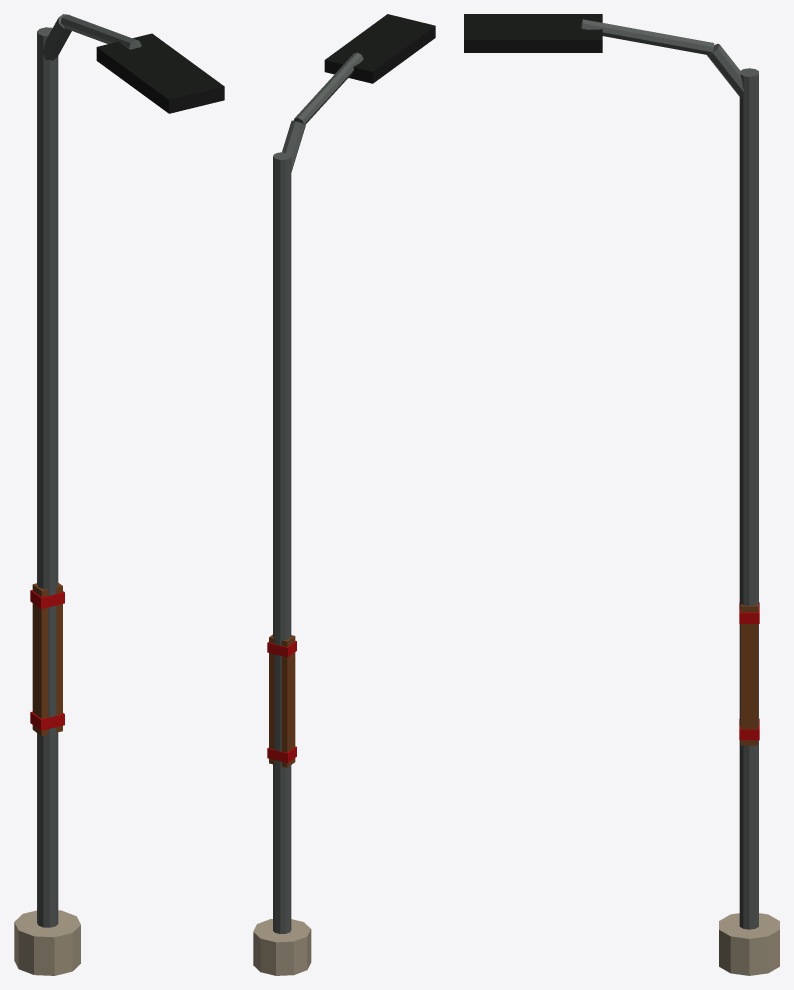
Rendered from LampuPJU.obj.
3 renders of one model, left to right at view 1: azimuth 30°, elevation 25°; view 2: azimuth 150°, elevation 25°; view 3: azimuth 270°, elevation 25°, orthographic. The views are drawn at different scales.
Parts seen in each view (by area): view 1: POLE, LAMP_HEAD, BASE, WOOD_SLEEVE, ARM_2, ARM_1; view 2: POLE, LAMP_HEAD, BASE, WOOD_SLEEVE, ARM_2, ARM_1; view 3: POLE, LAMP_HEAD, BASE, WOOD_SLEEVE, ARM_2, ARM_1.
Part boxes in pixels (box(x1,y1,x2,y2)): POLE: box(37, 27, 58, 927); LAMP_HEAD: box(96, 33, 224, 113); BASE: box(14, 910, 80, 975); WOOD_SLEEVE: box(32, 583, 62, 736); ARM_2: box(60, 14, 141, 49); ARM_1: box(42, 14, 71, 60); POLE: box(273, 152, 291, 933); LAMP_HEAD: box(324, 14, 435, 83); BASE: box(253, 919, 311, 975); WOOD_SLEEVE: box(269, 634, 295, 767); ARM_2: box(293, 52, 363, 124); ARM_1: box(282, 120, 305, 172); POLE: box(739, 68, 758, 929); LAMP_HEAD: box(464, 14, 602, 52); BASE: box(719, 913, 779, 975); WOOD_SLEEVE: box(740, 604, 758, 745); ARM_2: box(581, 19, 714, 54); ARM_1: box(707, 43, 744, 97).
Size of the model in its own units: 0.44 by 7.13 by 2.16.
